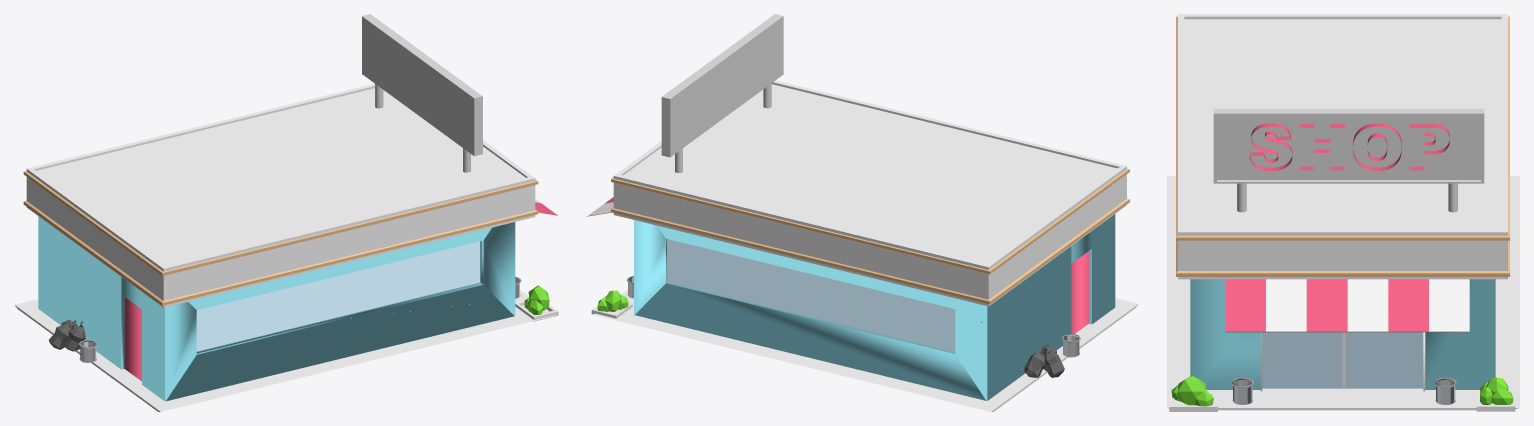
File: oilshop.glb
The picture shows the model from 3 angles, left to right: view 1: azimuth 30°, elevation 25°; view 2: azimuth 150°, elevation 25°; view 3: azimuth 270°, elevation 25°; orthographic projection. The views are drawn at different scales.
Parts seen in each view (by area): view 1: Board; view 2: Board; view 3: Board.
Part boxes in pixels (box(x1,y1,x2,y2)): Board: box(15, 14, 558, 411); Board: box(587, 14, 1138, 411); Board: box(1167, 14, 1519, 411).
Bounding box in the file's own units: 3.53 × 1.72 × 2.04.
